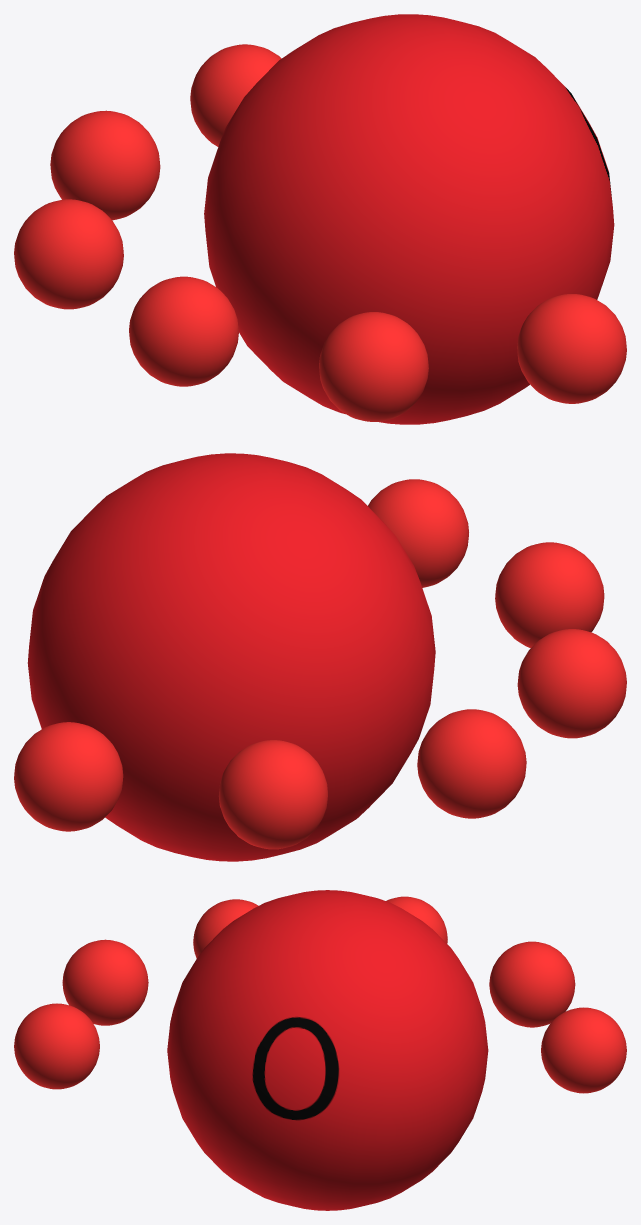
File: OxygenModel.gltf
3 views of the same model, one above another, from view 1: azimuth 30°, elevation 25°; view 2: azimuth 150°, elevation 25°; view 3: azimuth 270°, elevation 25° (orthographic). The views are drawn at different scales.
Visible parts, largest first — view 1: Sphere.001, Sphere.002, Sphere.004, Sphere.007, Sphere.003, Sphere.005, Sphere.006; view 2: Sphere.001, Sphere.002, Sphere.005, Sphere.004, Sphere.006, Sphere.003, Sphere.007; view 3: Sphere.001, Sphere.006, Sphere.007, Sphere.005, Sphere.003, Sphere.004, Sphere.002.
Boxes of the visible parts, bbox=[...] form: Sphere.001: bbox=[204, 14, 614, 424]; Sphere.002: bbox=[14, 199, 123, 309]; Sphere.004: bbox=[129, 276, 238, 386]; Sphere.007: bbox=[517, 294, 626, 403]; Sphere.003: bbox=[319, 312, 428, 421]; Sphere.005: bbox=[50, 110, 160, 220]; Sphere.006: bbox=[190, 44, 281, 146]; Sphere.001: bbox=[27, 453, 435, 861]; Sphere.002: bbox=[417, 709, 526, 818]; Sphere.005: bbox=[218, 740, 327, 849]; Sphere.004: bbox=[517, 629, 626, 738]; Sphere.006: bbox=[14, 722, 123, 831]; Sphere.003: bbox=[495, 542, 604, 648]; Sphere.007: bbox=[368, 479, 468, 587]; Sphere.001: bbox=[167, 890, 488, 1210]; Sphere.006: bbox=[541, 1007, 626, 1093]; Sphere.007: bbox=[14, 1003, 99, 1089]; Sphere.005: bbox=[489, 941, 575, 1027]; Sphere.003: bbox=[62, 939, 148, 1025]; Sphere.004: bbox=[193, 899, 258, 958]; Sphere.002: bbox=[386, 896, 447, 943].
Size of the model in its own units: 2.9 by 2 by 3.82.
Materials: 7 (1 with a texture image).
